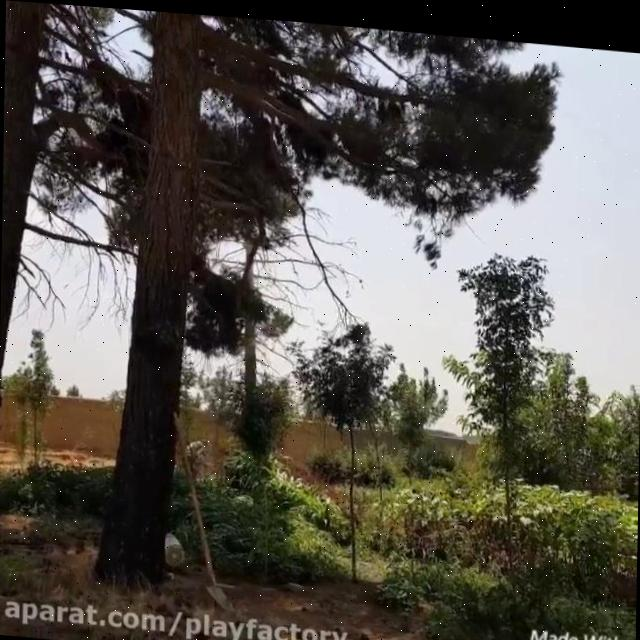drone: (314, 311, 327, 323)
